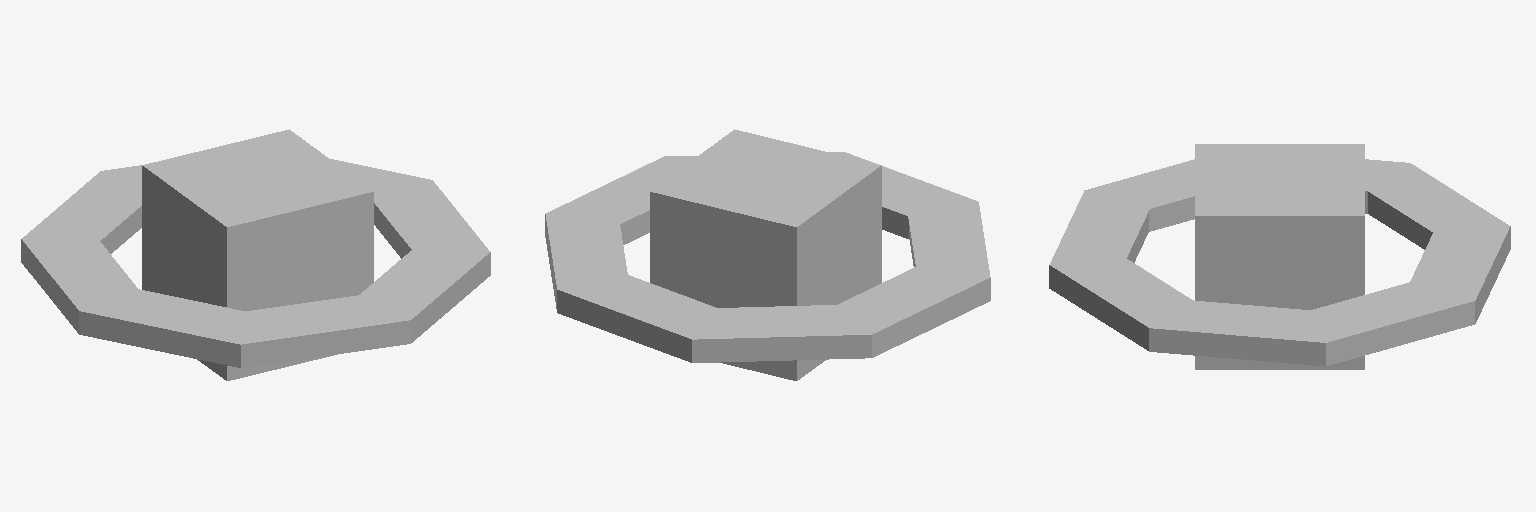
File: Saturn.obj
3 renders of one model, left to right at view 1: azimuth 30°, elevation 25°; view 2: azimuth 150°, elevation 25°; view 3: azimuth 270°, elevation 25°, orthographic.
Visible parts, largest first — view 1: Cube; view 2: Cube; view 3: Cube.
Part boxes in pixels (left/top/right/bottom): Cube: left=21, top=129, right=490, bottom=380; Cube: left=545, top=129, right=990, bottom=380; Cube: left=1049, top=144, right=1510, bottom=369.
Bounding box in the file's own units: 5.42 × 2 × 5.42.